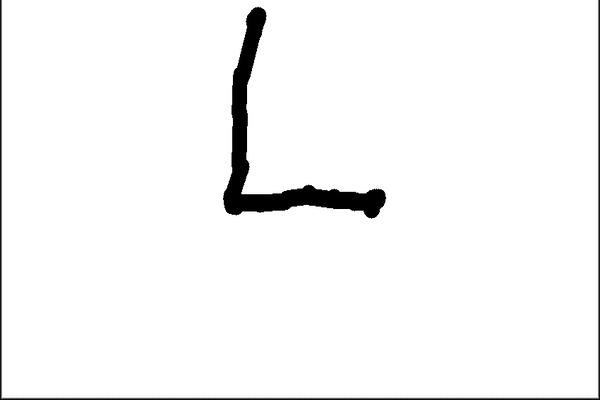L: (218, 2, 389, 223)
